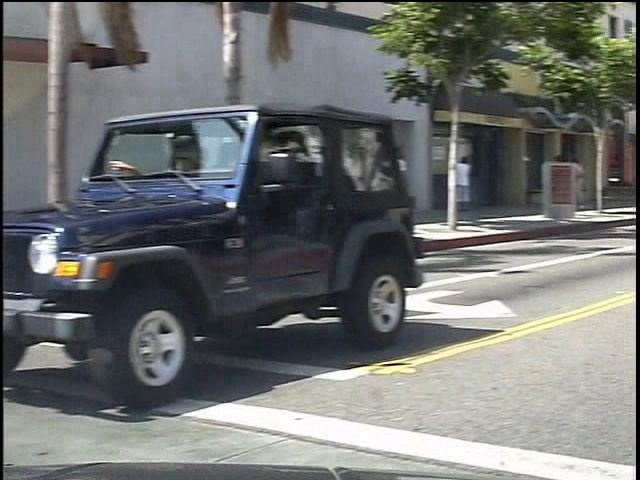person: (469, 147, 493, 229)
